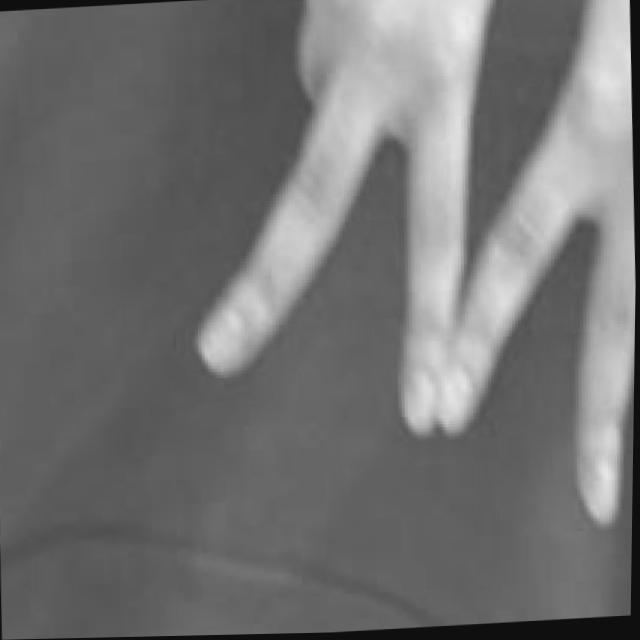M: (176, 0, 640, 556)
